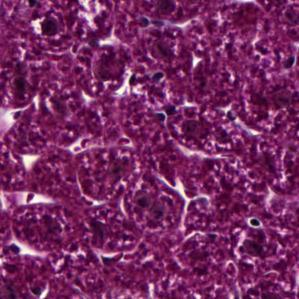inflammation: (30, 13, 62, 39), (149, 103, 180, 124), (241, 212, 265, 232)
